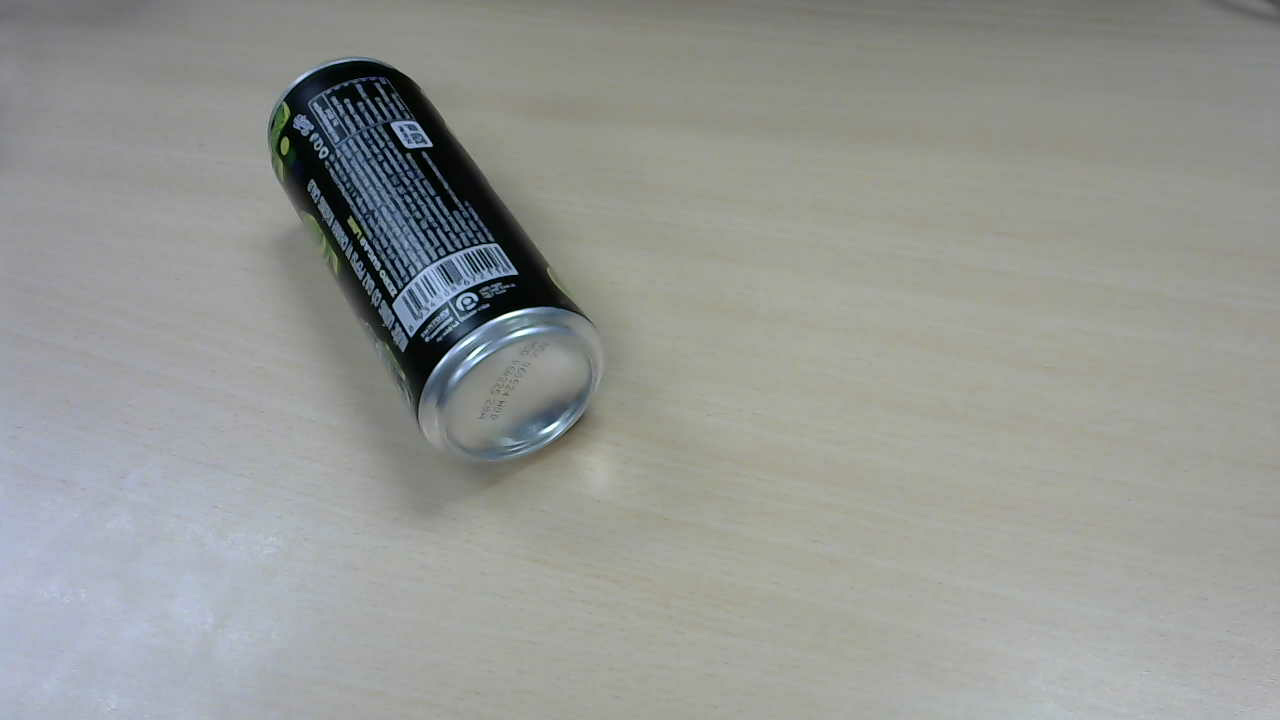Pepsi: (264, 62, 608, 466)
